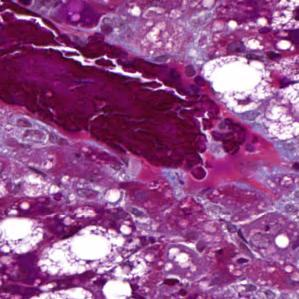ballooning: (39, 219, 122, 285), (200, 54, 276, 119), (6, 216, 45, 258)
